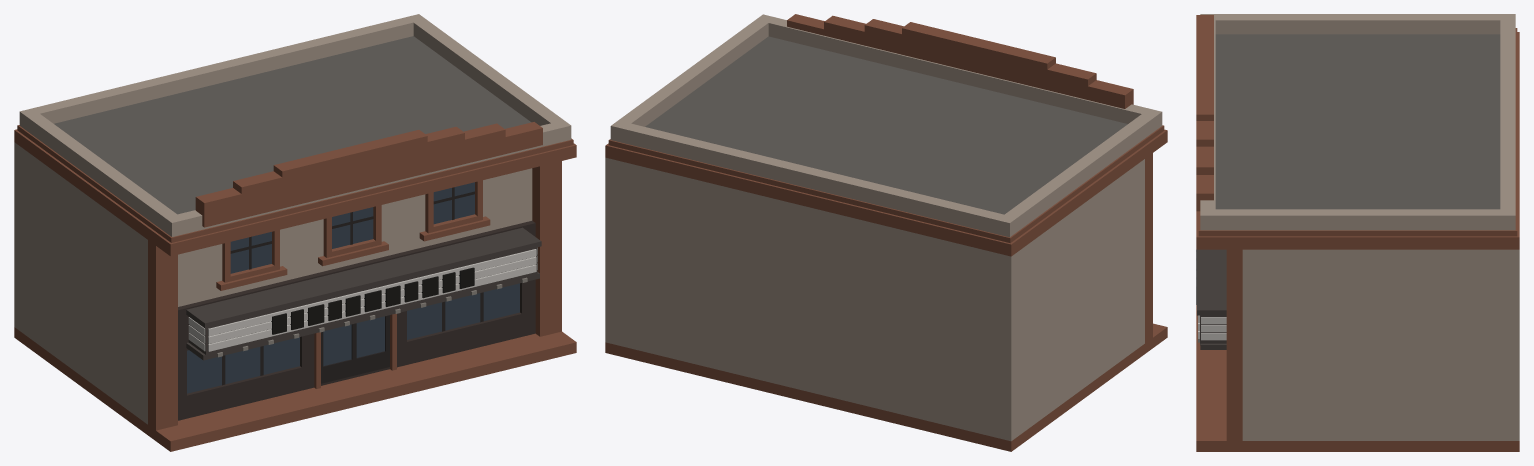
The model's file is movie-theater-8c710a.glb.
3 views of the same model, side by side, from view 1: azimuth 30°, elevation 25°; view 2: azimuth 150°, elevation 25°; view 3: azimuth 270°, elevation 25° (orthographic). The views are drawn at different scales.
Parts seen in each view (by area): view 1: theater-shell, door-r-leaf, door-l-leaf; view 2: theater-shell; view 3: theater-shell.
Part boxes in pixels (box(x1,y1,x2,y2)): theater-shell: box(14, 14, 576, 451); door-r-leaf: box(354, 315, 389, 375); door-l-leaf: box(321, 323, 354, 383); theater-shell: box(605, 14, 1167, 451); theater-shell: box(1196, 14, 1519, 451).
Bounding box in the file's own units: 12 × 7.15 × 8.
